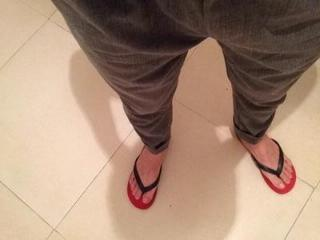trousers: (53, 0, 319, 155)
